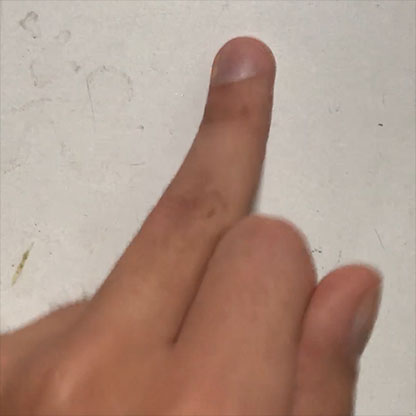fingertip: (197, 30, 291, 104)
